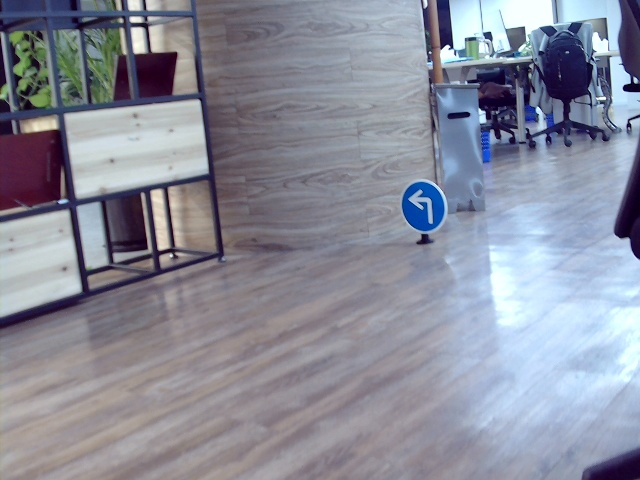turn_left: (409, 185, 435, 223)
